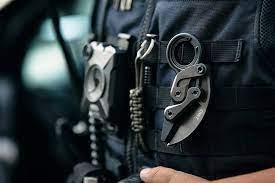Knife: (162, 31, 212, 146)
